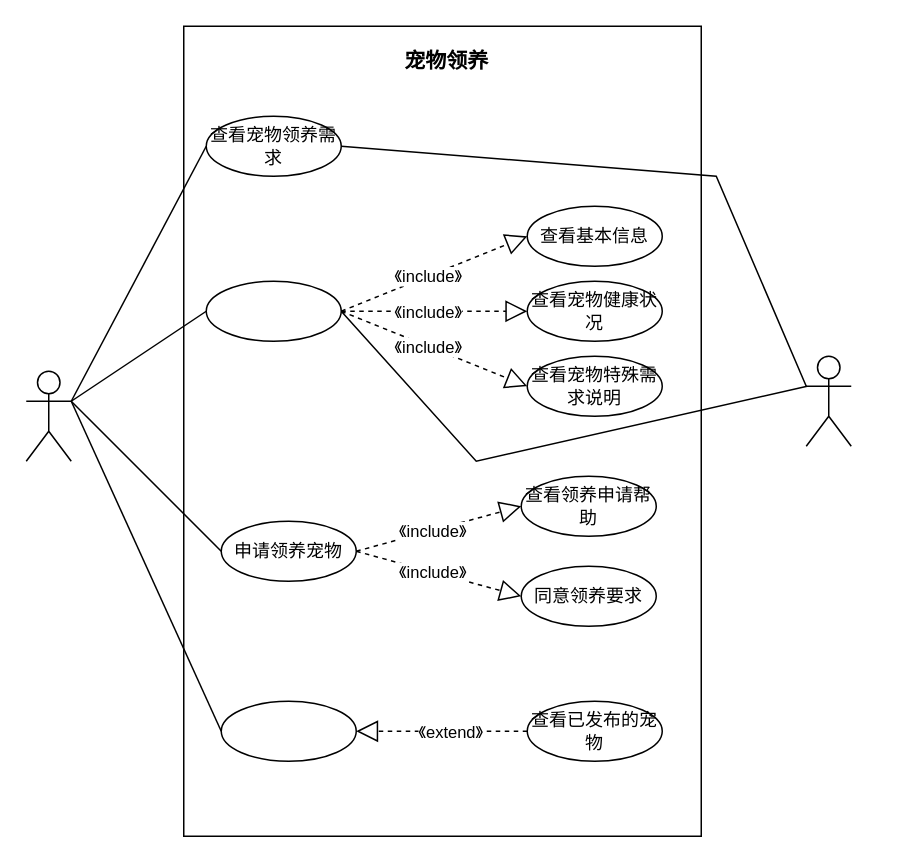
The diagram is 900 pixels wide and 863 high, and some of its shapes have lost their labels. Here are the shapes that lost their labels. From the top down, the centre of each, then its label:
At point (273, 310): "查看宠物信息".
At point (48, 415): "用户".
At point (828, 400): "系统管理员".
At point (288, 730): "发布宠物信息".
